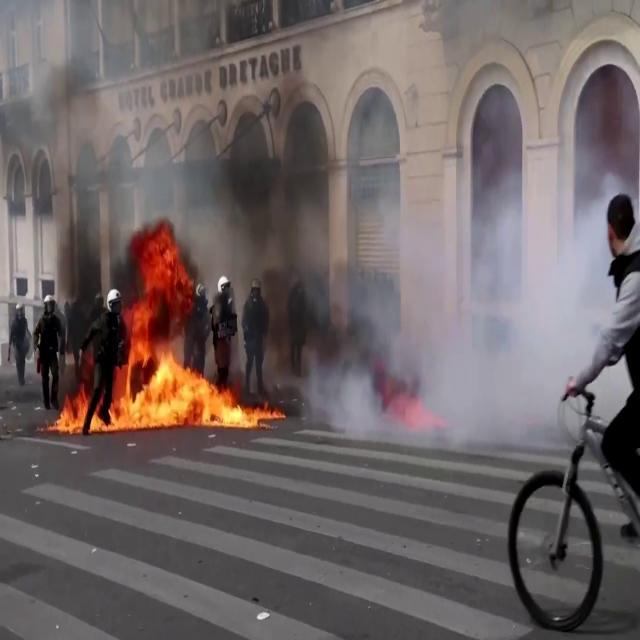Fire: (55, 236, 275, 442)
Smoke: (310, 120, 616, 452), (0, 8, 125, 315)
